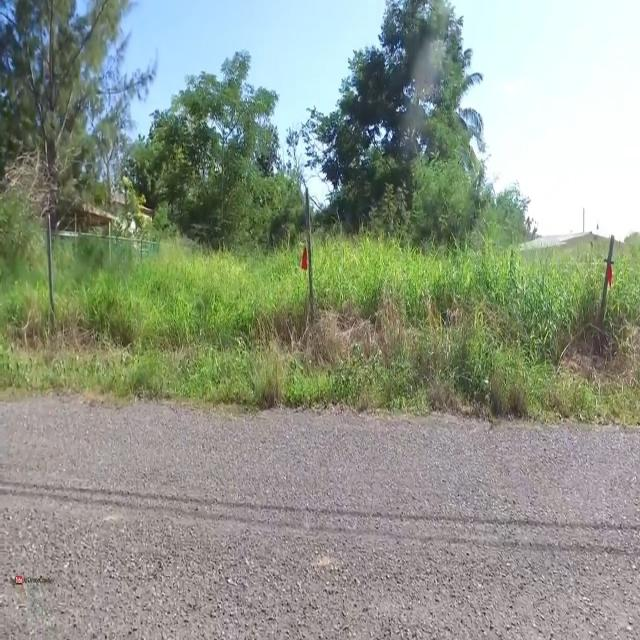Pole: (297, 190, 321, 326), (42, 210, 58, 322), (600, 235, 616, 329)
